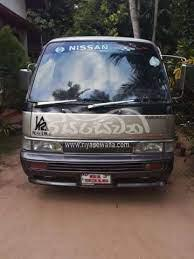van: (20, 36, 181, 203)
